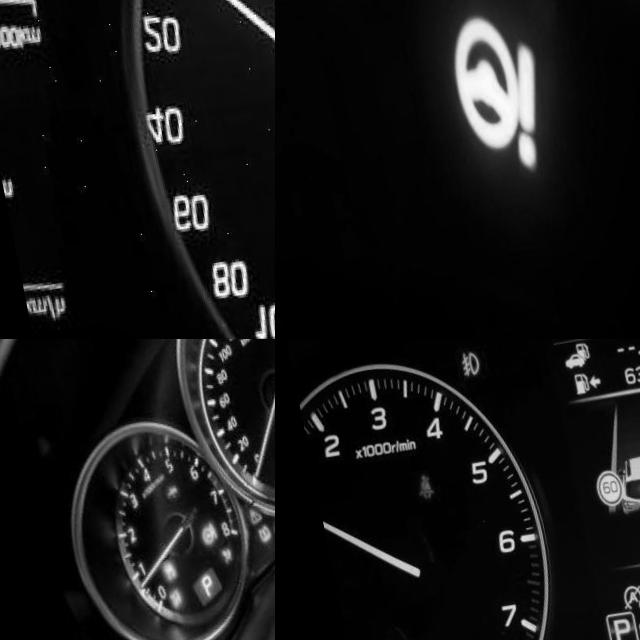Electronic Power Steering: (423, 2, 547, 211)
Seat Belt: (403, 477, 422, 505)
